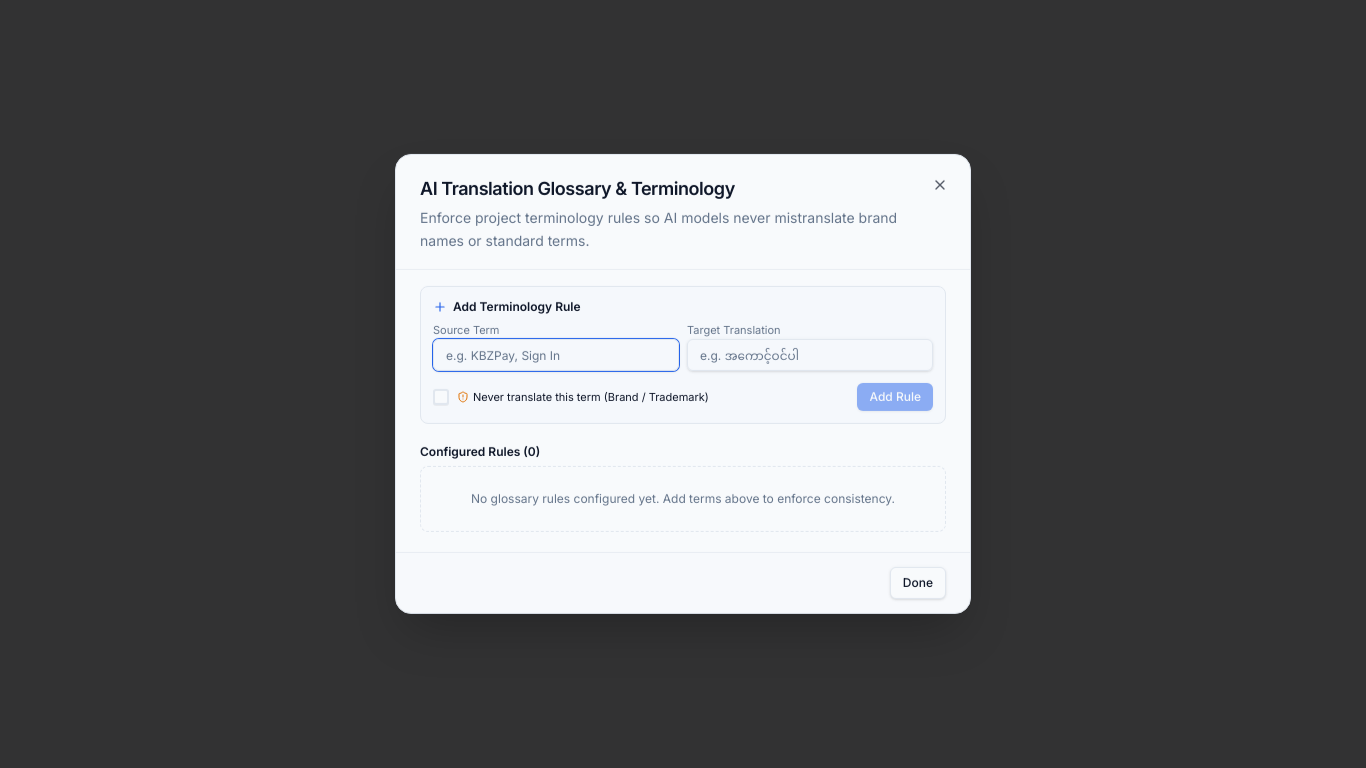
Test case: GlossaryModal › deletes an existing rule with accessible button and confirmation flow
Type "To Delete" into the field with placeholder "e.g. KBZPay, Sign In" at (556, 355), box [433,339,679,371]
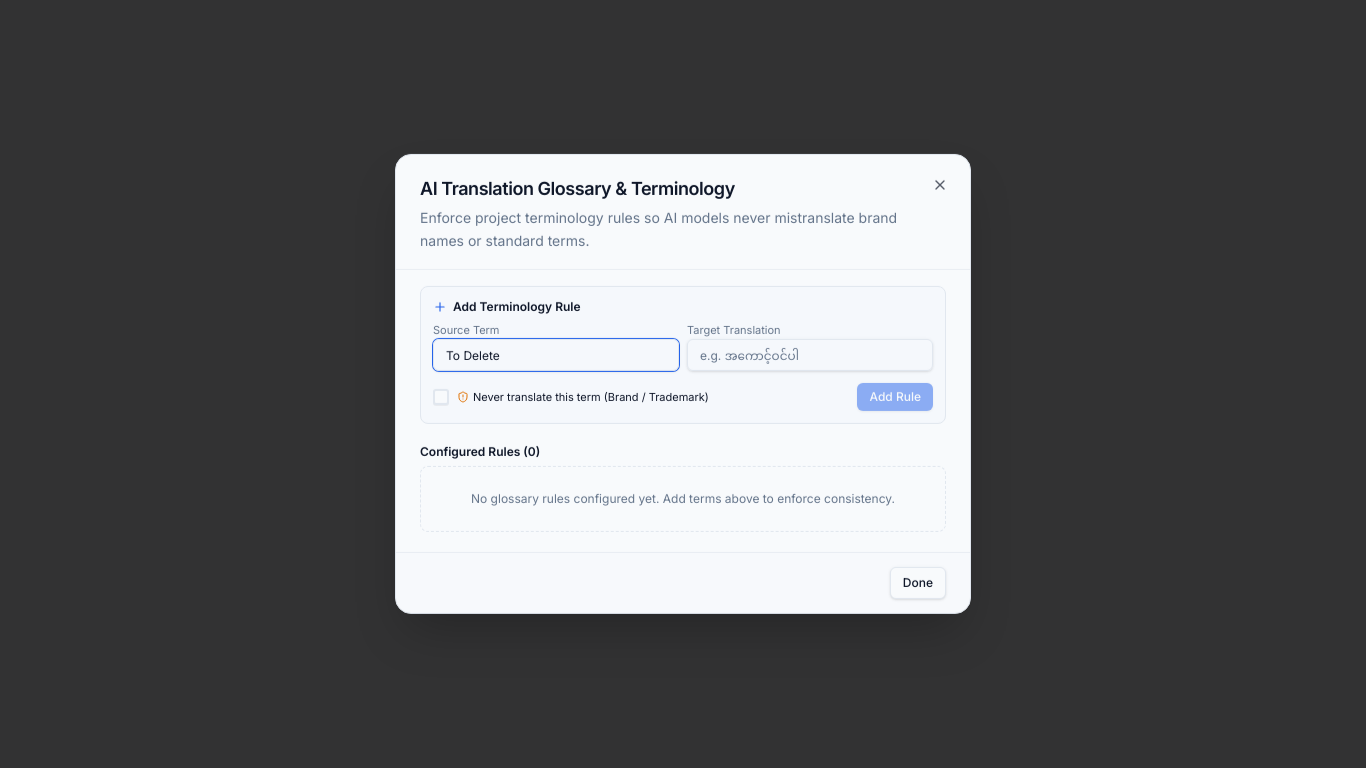
Type "Target" into the field with placeholder "e.g. အကောင့်ဝင်ပါ" at (810, 355), box [687,339,933,371]
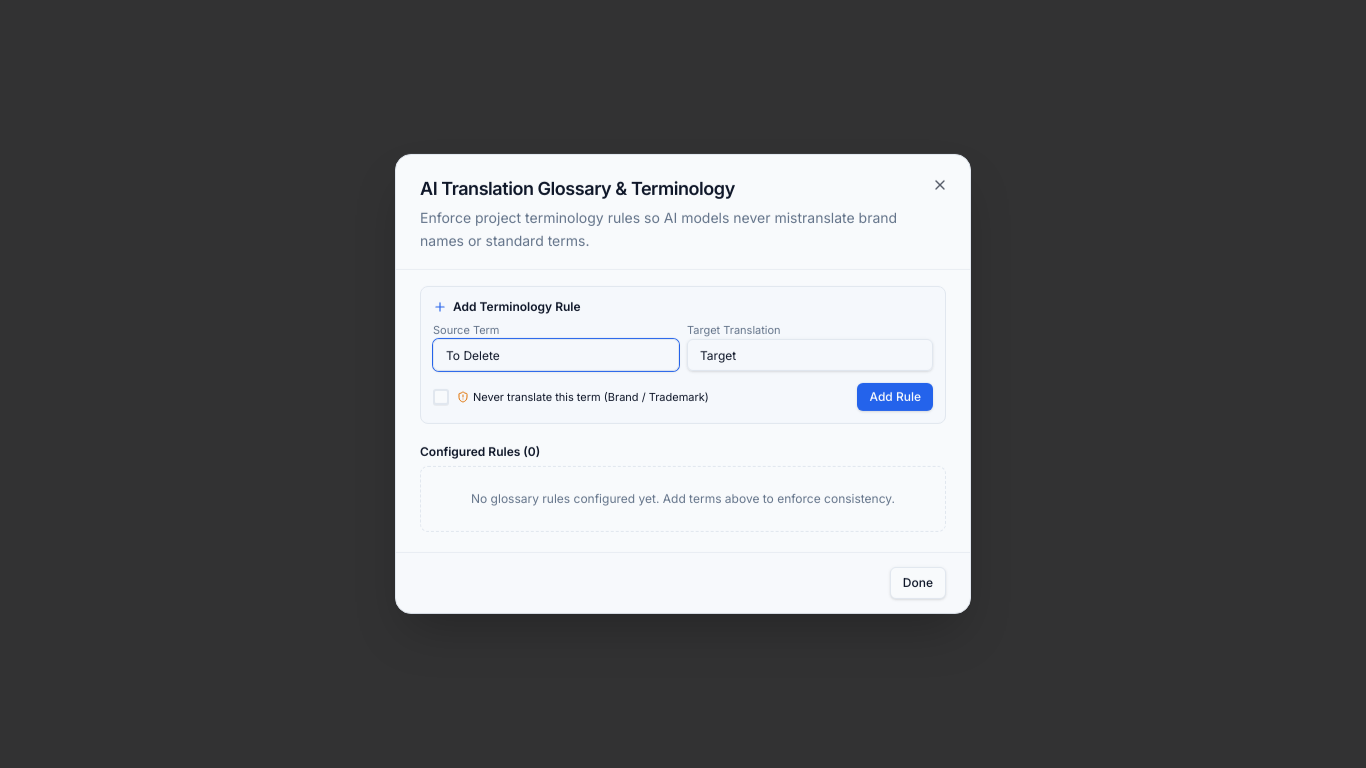
Click the button "Add Rule" at (895, 397), box [858,383,933,411]
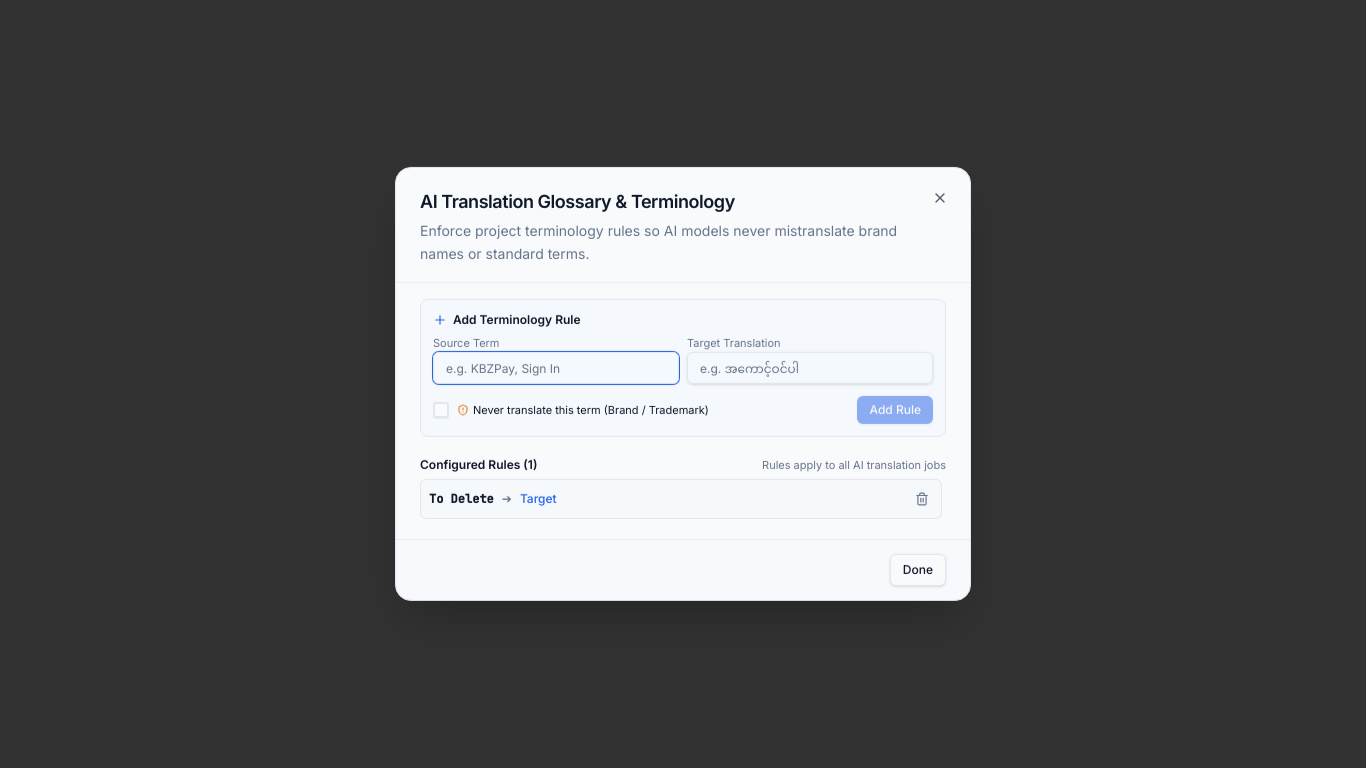
Check: the text "To Delete" is shown, box [429,491,494,507]
Check: the button named "Delete glossary rule for To Delete" is shown
Click the button named "Delete glossary rule for To Delete" at (922, 499), box [911,488,933,510]
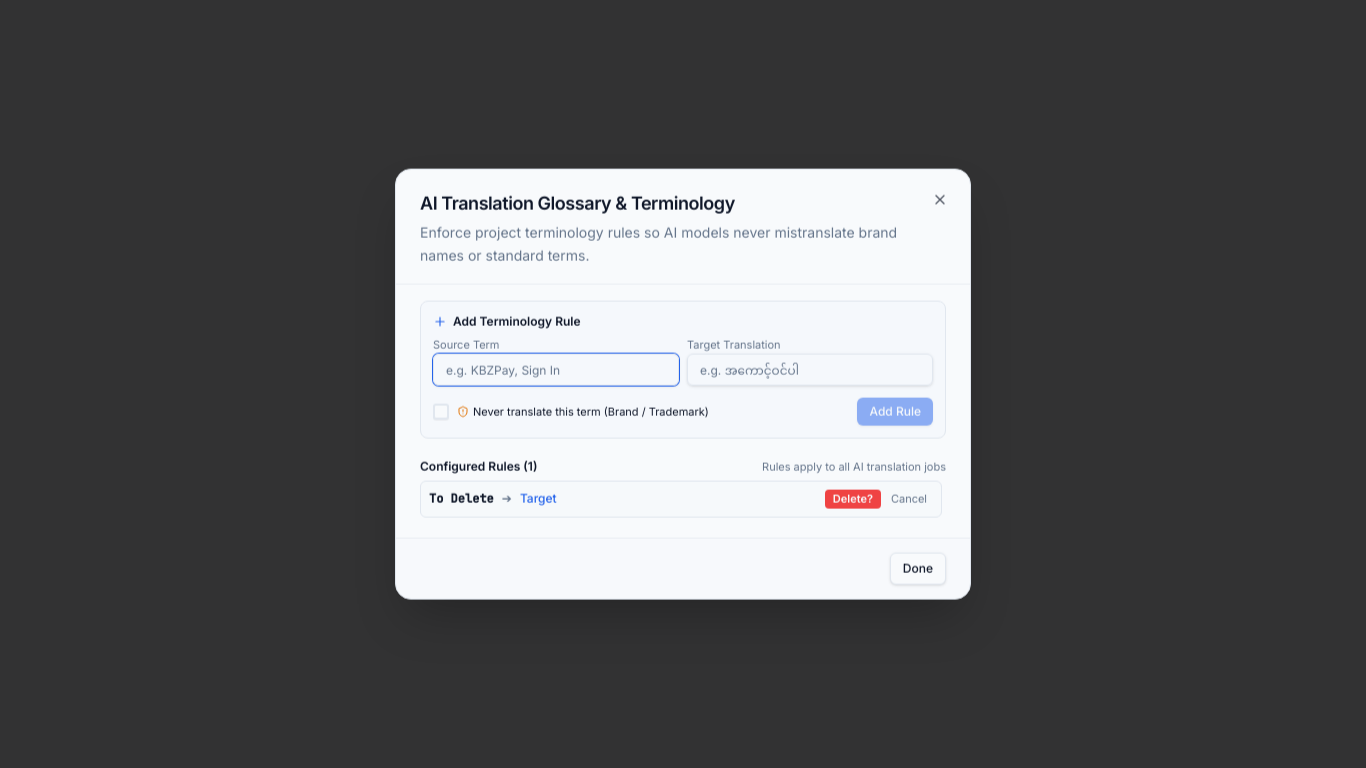
Check: the button with aria-label "Confirm delete glossary rule for To Delete" is shown
Click the button with aria-label "Confirm delete glossary rule for To Delete" at (853, 499), box [825,490,881,508]
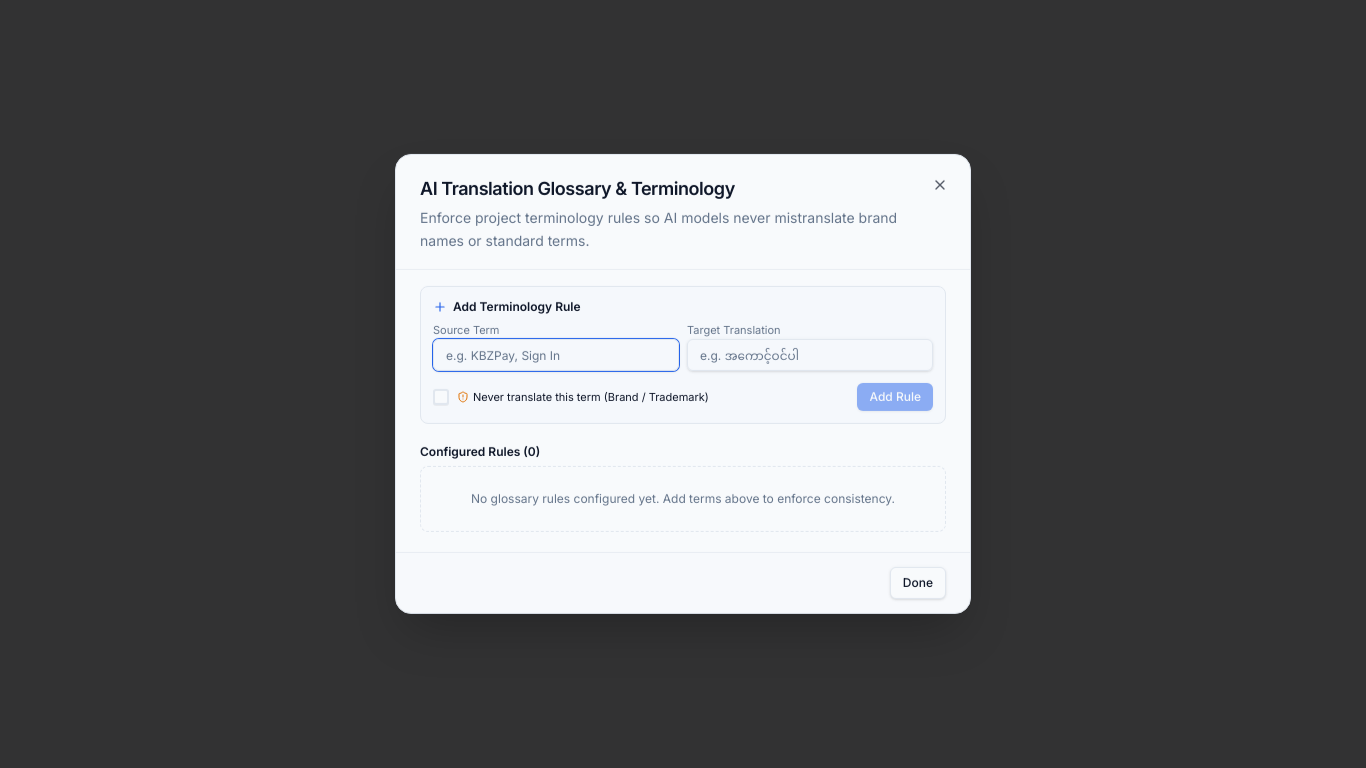
Check: the text "To Delete" is gone
